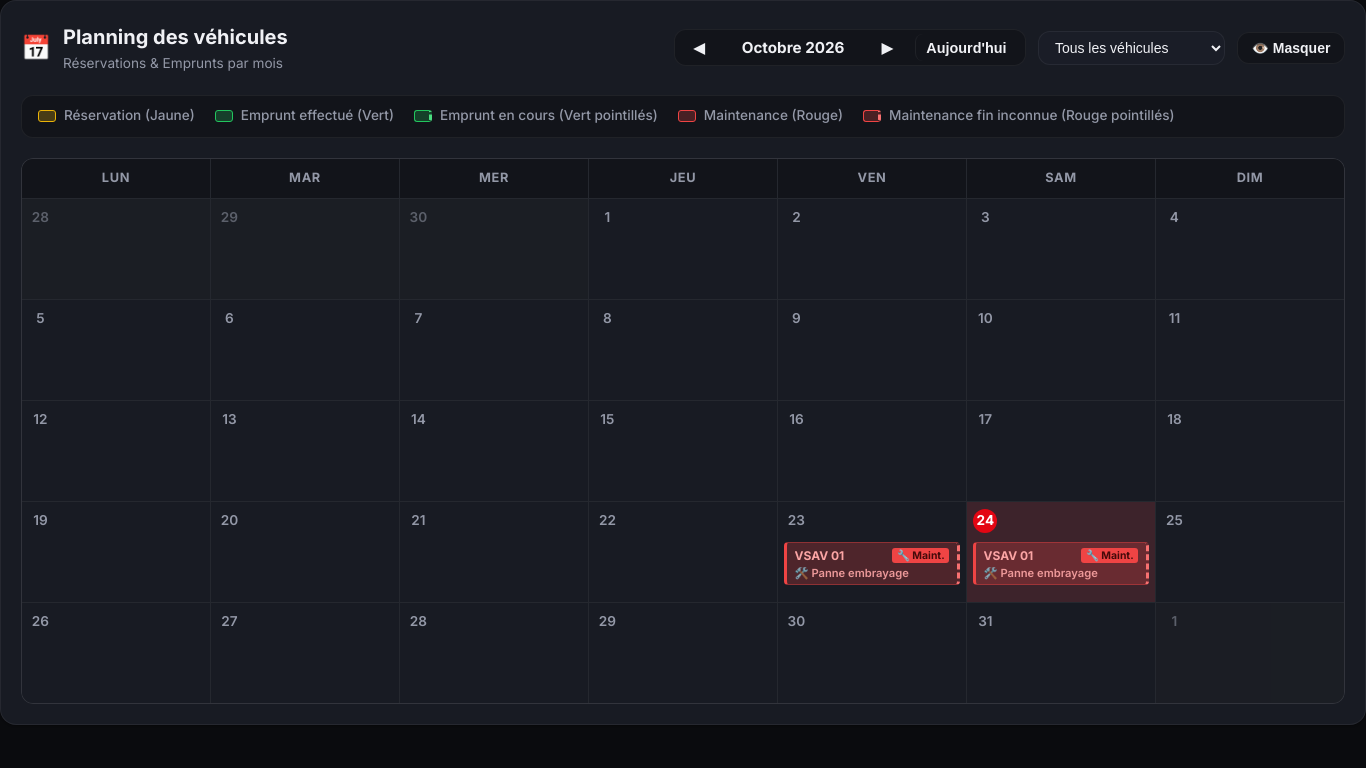
it: VehicleCalendar — modifier / supprimer une maintenance › affiche « Modifier » et « Supprimer » pour un ADMIN sur une maintenance en cours
Click the element titled "Panne embrayage": (872, 564) [784,542,960,585]
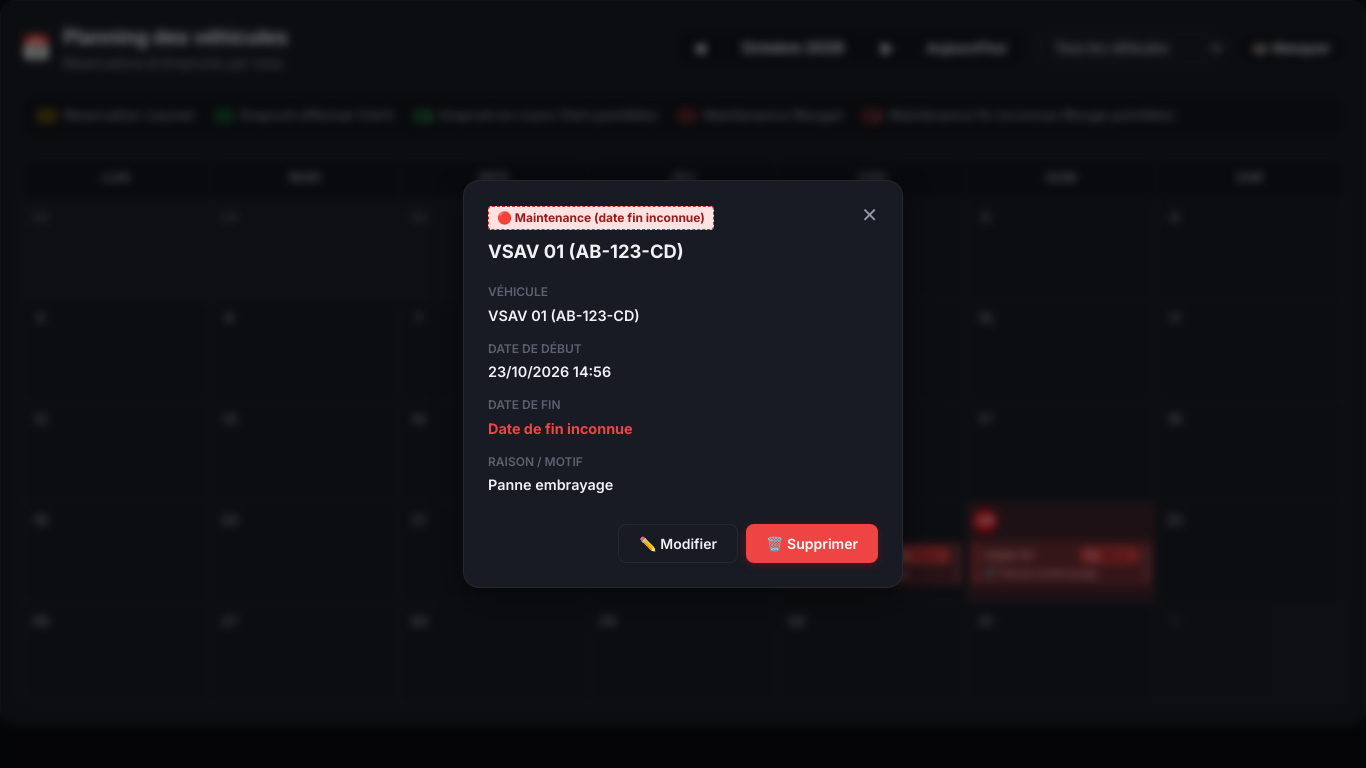
Check: the text "Raison / Motif" is shown, box [488,454,583,469]
Check: the text "Panne embrayage" is shown, box [488,476,613,493]
Check: the button "✏️ Modifier" is shown, box [618,524,738,564]
